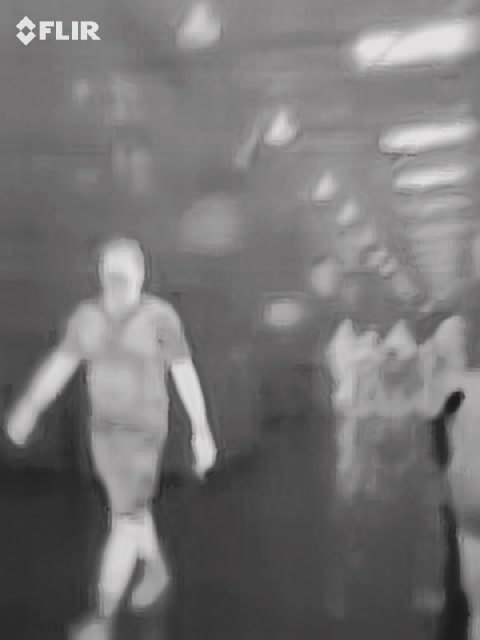head: (97, 234, 144, 306)
